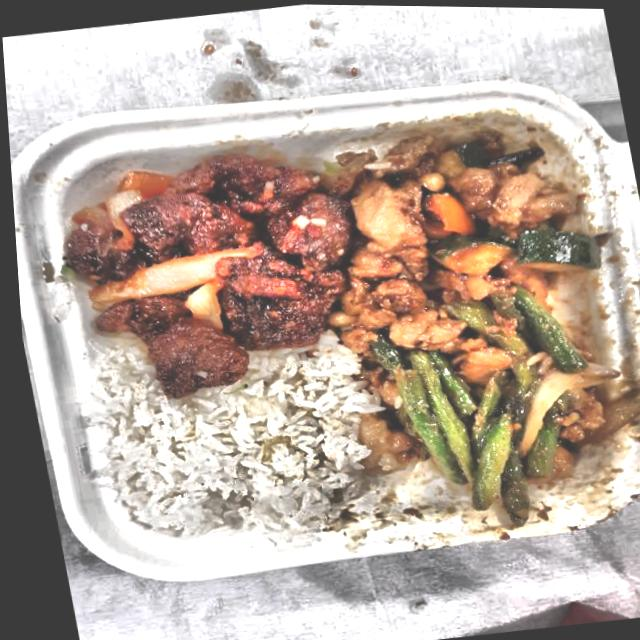Food: (45, 128, 367, 410), (356, 280, 633, 538), (313, 98, 602, 334), (91, 361, 378, 556)
